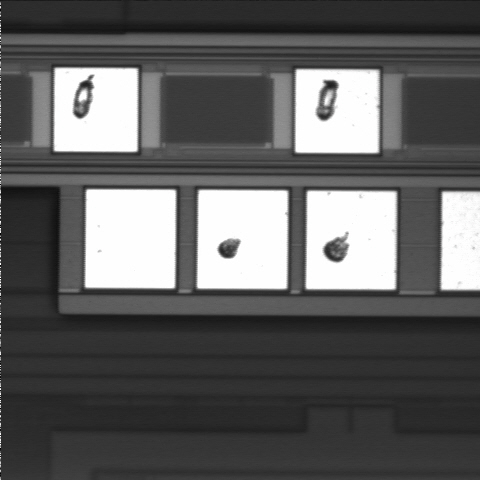pad: (197, 190, 288, 289), (85, 190, 176, 288), (306, 191, 396, 289), (54, 68, 138, 152), (295, 70, 379, 153)
